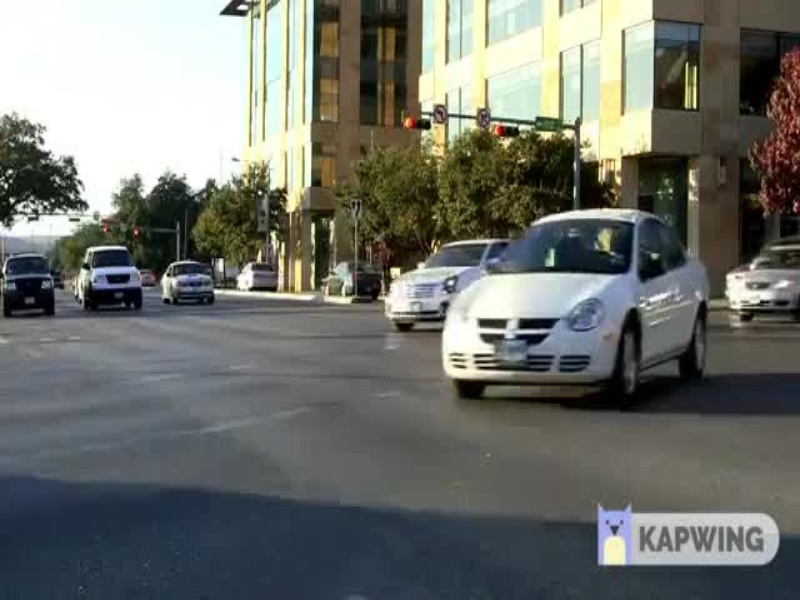car: (443, 205, 714, 405), (380, 240, 478, 327), (725, 245, 800, 323), (71, 241, 150, 315), (1, 247, 62, 324), (156, 251, 222, 306)
